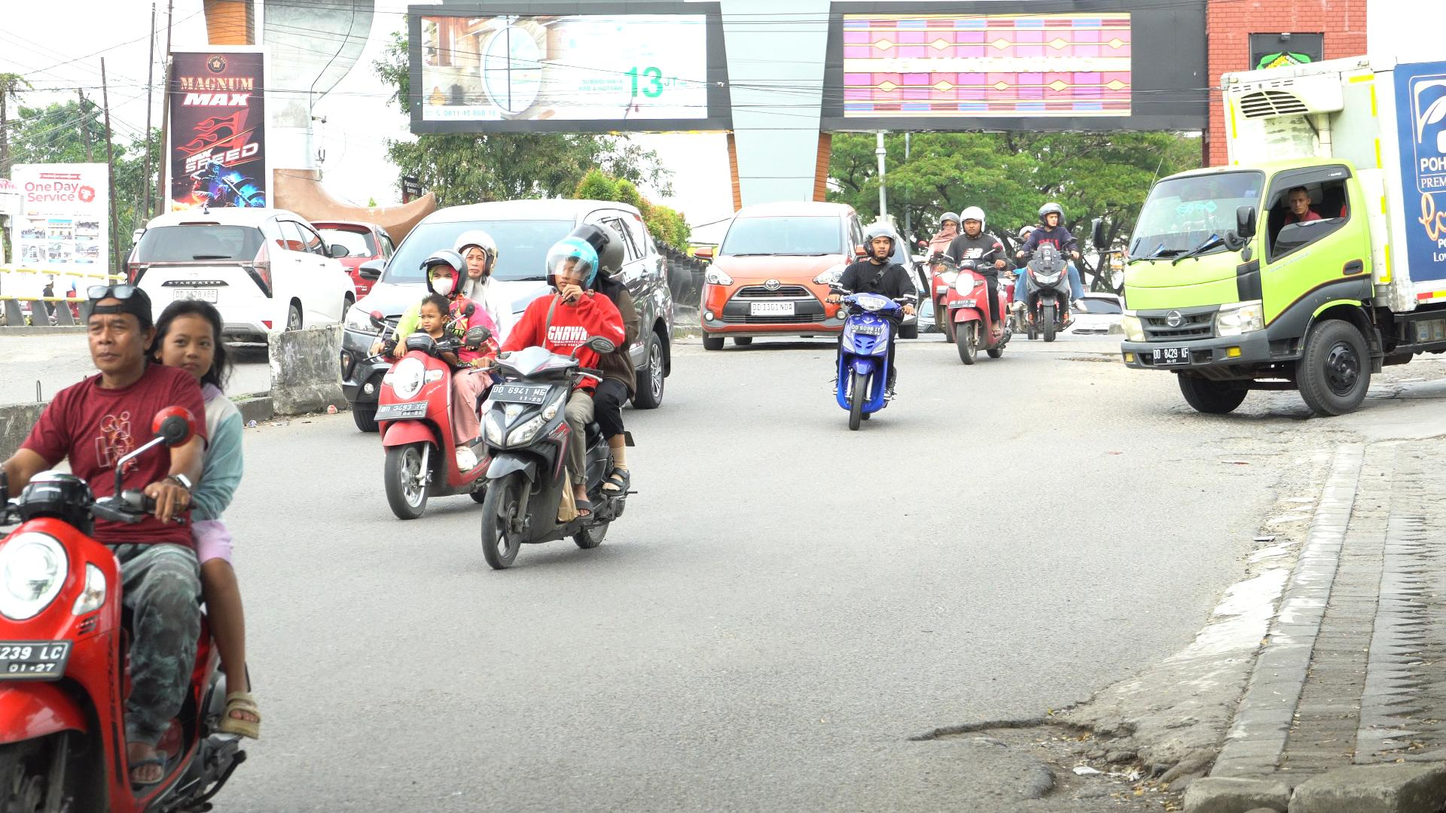number-plate: (490, 385, 546, 406), (372, 400, 428, 421), (850, 322, 881, 336), (948, 299, 977, 308)
